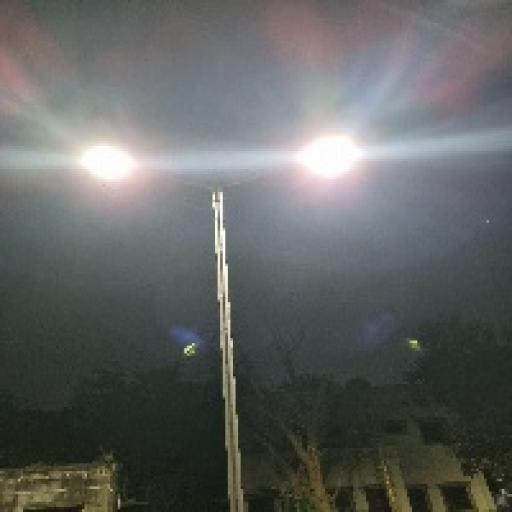Working: (283, 120, 383, 194), (66, 135, 152, 192)
